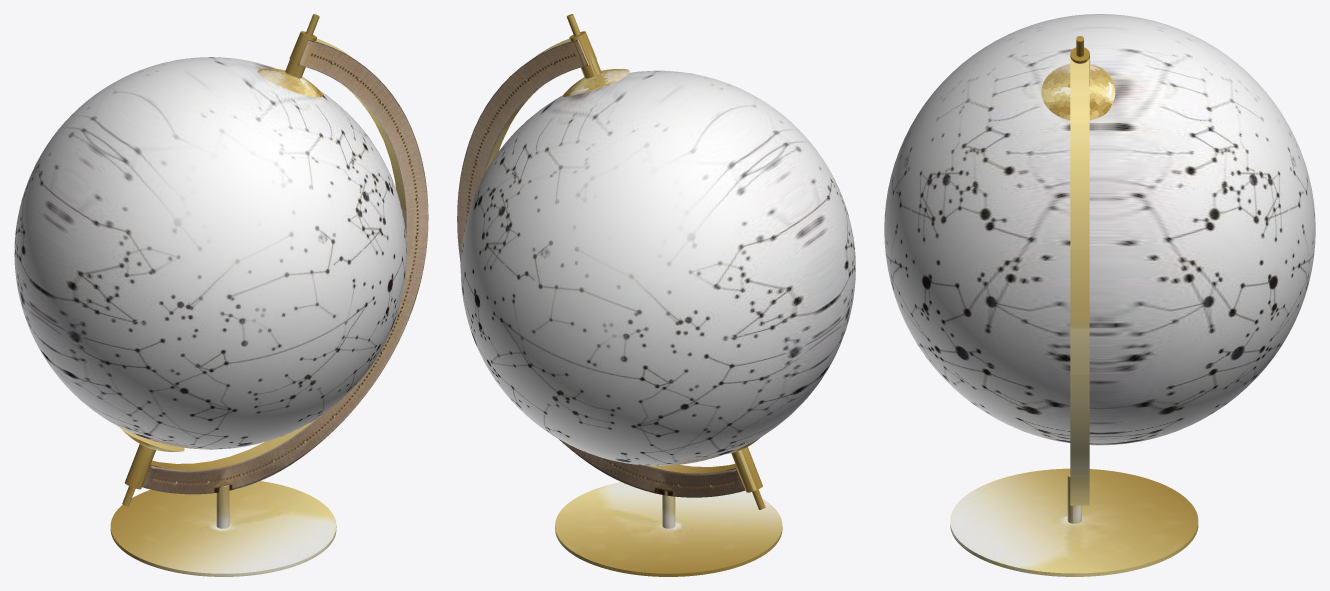
The model's file is globeGLTF.glb.
3 views of the same model, side by side, from view 1: azimuth 30°, elevation 25°; view 2: azimuth 150°, elevation 25°; view 3: azimuth 270°, elevation 25° (orthographic). The views are drawn at different scales.
Parts seen in each view (by area): view 1: globeOBJ; view 2: globeOBJ; view 3: globeOBJ.
Part boxes in pixels (x1=…): globeOBJ: x1=14, y1=14, x2=428, y2=576; globeOBJ: x1=457, y1=14, x2=855, y2=576; globeOBJ: x1=884, y1=14, x2=1315, y2=576.
Bounding box in the file's own units: 1.22 × 1.57 × 1.11.
2 materials, 2 textured.
